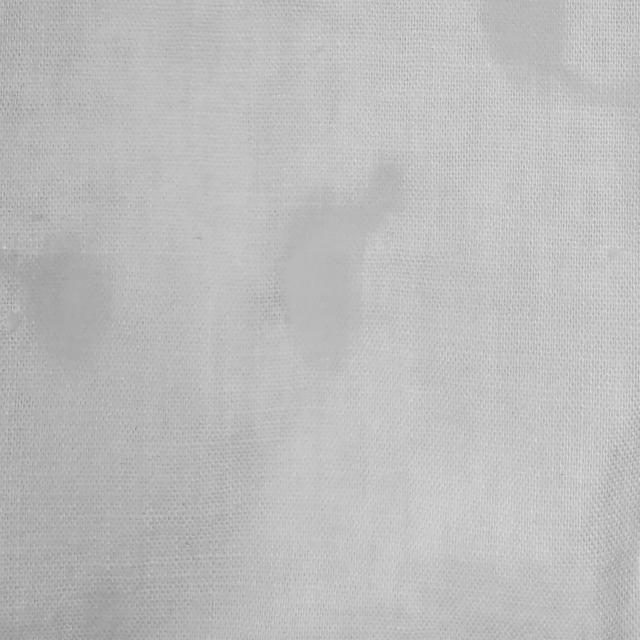Stain: (276, 162, 404, 369), (8, 234, 111, 369), (480, 0, 602, 101)
